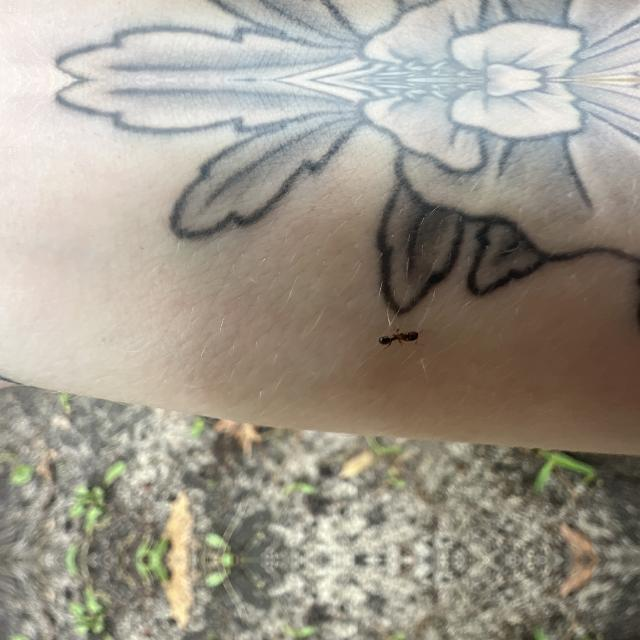Tetramorium: (372, 319, 426, 349)
